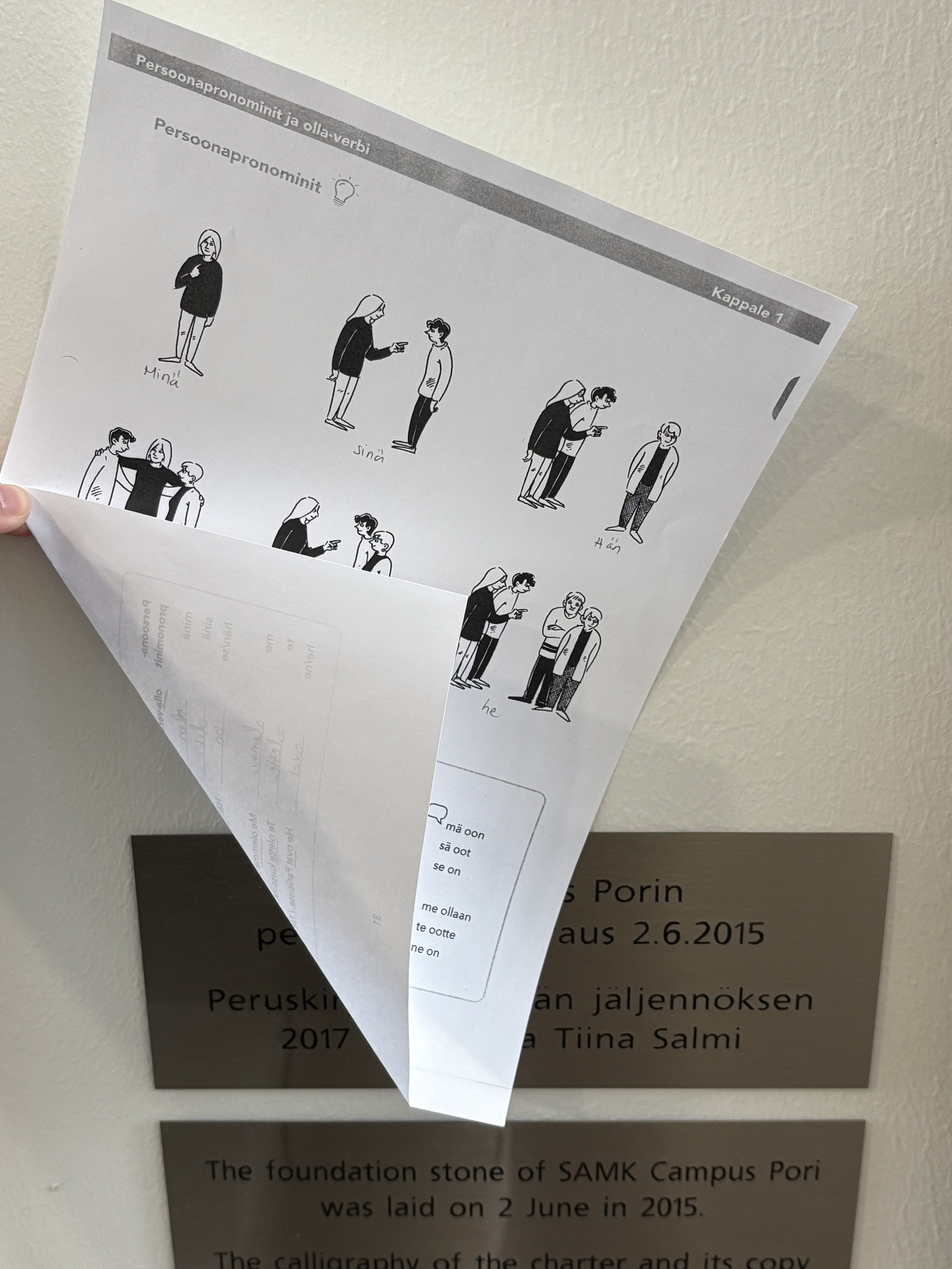paper: (1, 10, 859, 1126)
